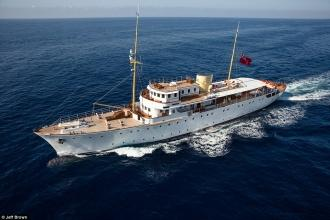otherboat: (29, 72, 283, 153)
